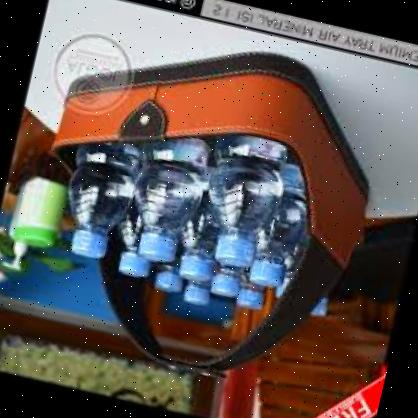bottle: (174, 84, 314, 284), (100, 118, 212, 266), (34, 111, 142, 263), (218, 170, 326, 296), (99, 234, 173, 300), (164, 226, 235, 292), (133, 252, 189, 320), (218, 268, 282, 323), (164, 262, 214, 316)
cap: (210, 226, 266, 272), (131, 227, 182, 267), (242, 252, 290, 294), (64, 223, 112, 262), (176, 250, 215, 288), (234, 286, 270, 316), (112, 252, 150, 279), (151, 272, 184, 300), (182, 284, 212, 308), (212, 279, 238, 303)
